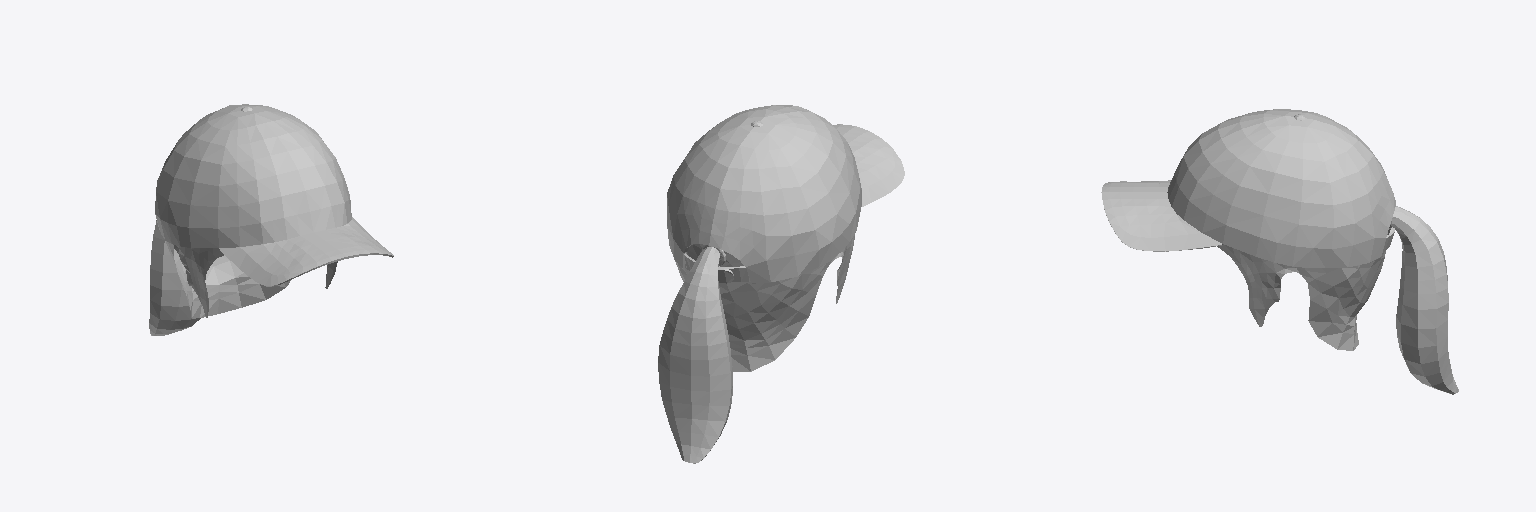
The model's file is BaseballHat_Hair_01.obj.
3 views of the same model, side by side, from view 1: azimuth 30°, elevation 25°; view 2: azimuth 150°, elevation 25°; view 3: azimuth 270°, elevation 25° (orthographic).
Size of the model in its own units: 16.95 by 28.29 by 32.42.